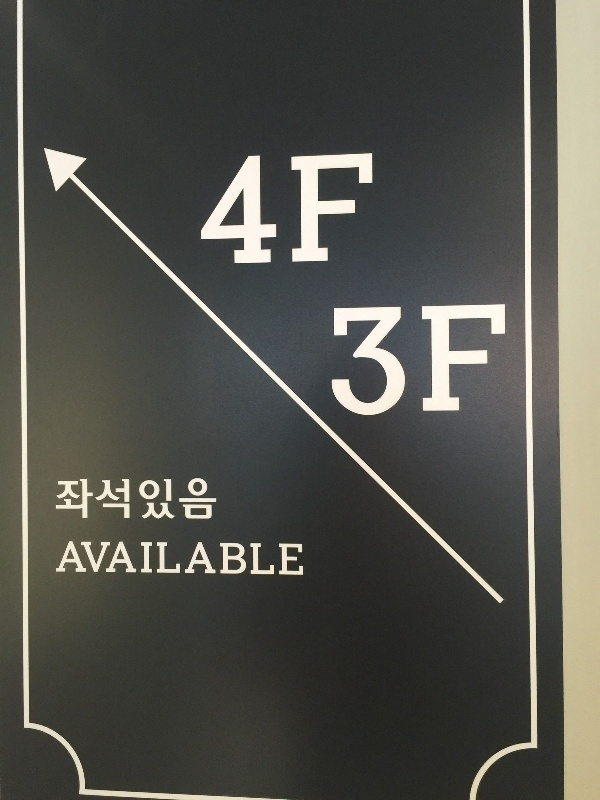text: (209, 153, 224, 270), (225, 153, 240, 270), (241, 153, 256, 270), (257, 153, 272, 270), (273, 153, 288, 270), (289, 153, 304, 270), (305, 153, 320, 270), (321, 153, 336, 270), (337, 153, 352, 270), (353, 153, 368, 270), (337, 306, 352, 419), (353, 306, 368, 419), (369, 306, 384, 419), (385, 306, 400, 419), (401, 306, 416, 419), (417, 306, 432, 419), (433, 306, 448, 419), (449, 306, 464, 419), (465, 306, 480, 419), (481, 306, 496, 419), (497, 306, 506, 419), (201, 153, 208, 270), (65, 480, 80, 525), (81, 480, 96, 525), (97, 480, 112, 525), (113, 480, 128, 525), (129, 480, 144, 525), (145, 480, 160, 525), (161, 480, 176, 525), (177, 480, 192, 525), (193, 480, 208, 525), (65, 539, 80, 580), (81, 539, 96, 580), (97, 539, 112, 580), (113, 539, 128, 580), (129, 539, 144, 580), (145, 539, 160, 580), (161, 539, 176, 580), (177, 539, 192, 580), (193, 539, 208, 580), (209, 539, 224, 580), (225, 539, 240, 580), (241, 539, 256, 580), (257, 539, 272, 580), (273, 539, 288, 580), (289, 539, 304, 580), (369, 153, 373, 270), (332, 306, 336, 419), (54, 480, 64, 525), (56, 539, 64, 580), (209, 480, 216, 525)
